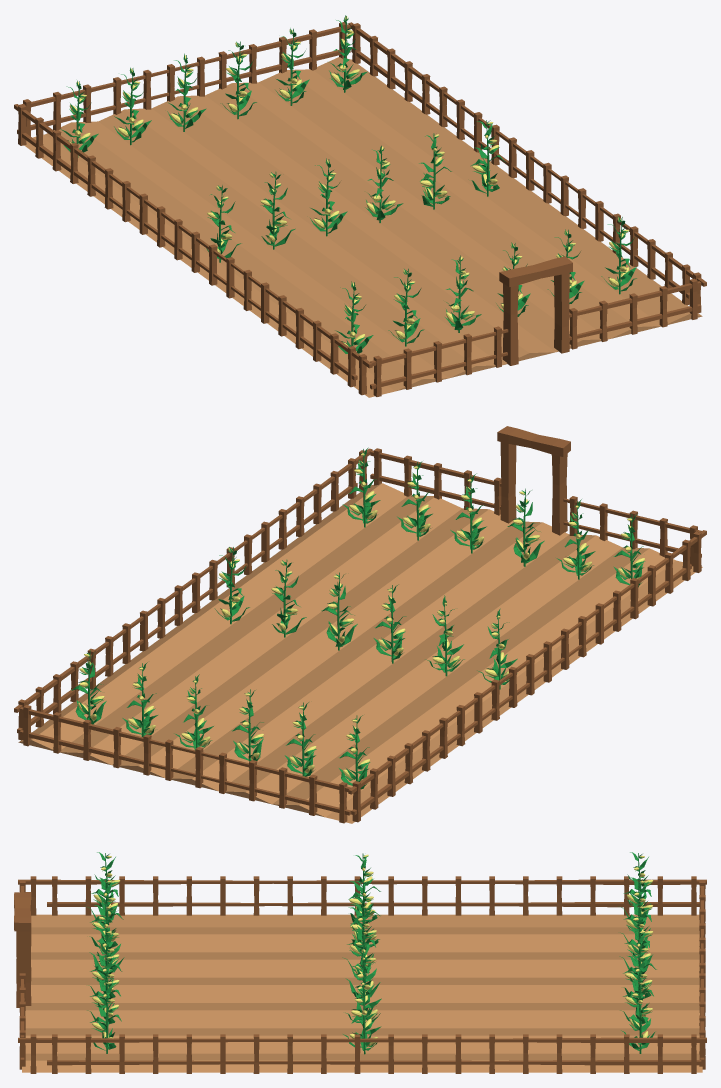
File: Corn_Field.fbx
The picture shows the model from 3 angles, top to bottom: view 1: azimuth 30°, elevation 25°; view 2: azimuth 150°, elevation 25°; view 3: azimuth 270°, elevation 25°; orthographic projection. The views are drawn at different scales.
Visible parts, largest first — view 1: Corn_Field; view 2: Corn_Field; view 3: Corn_Field.
Part boxes in pixels (left/top/right/bottom): Corn_Field: left=14, top=15, right=706, bottom=397; Corn_Field: left=14, top=426, right=706, bottom=823; Corn_Field: left=14, top=852, right=706, bottom=1073.
Size of the model in its own units: 922 by 232 by 1679.
